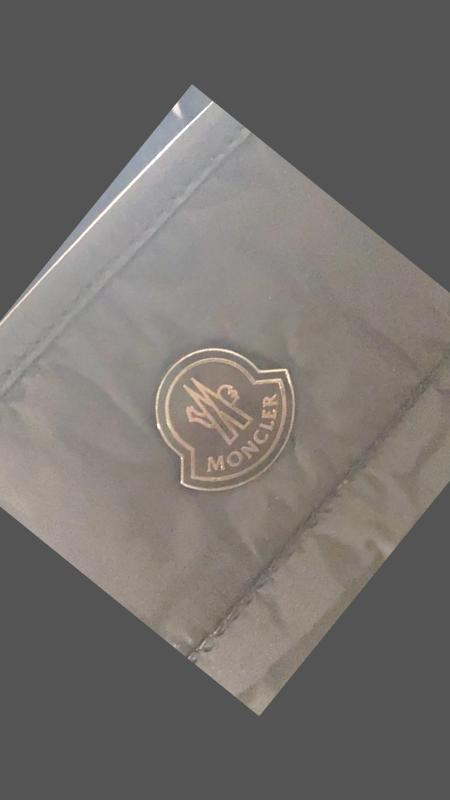MONCLER: (114, 308, 327, 522)
